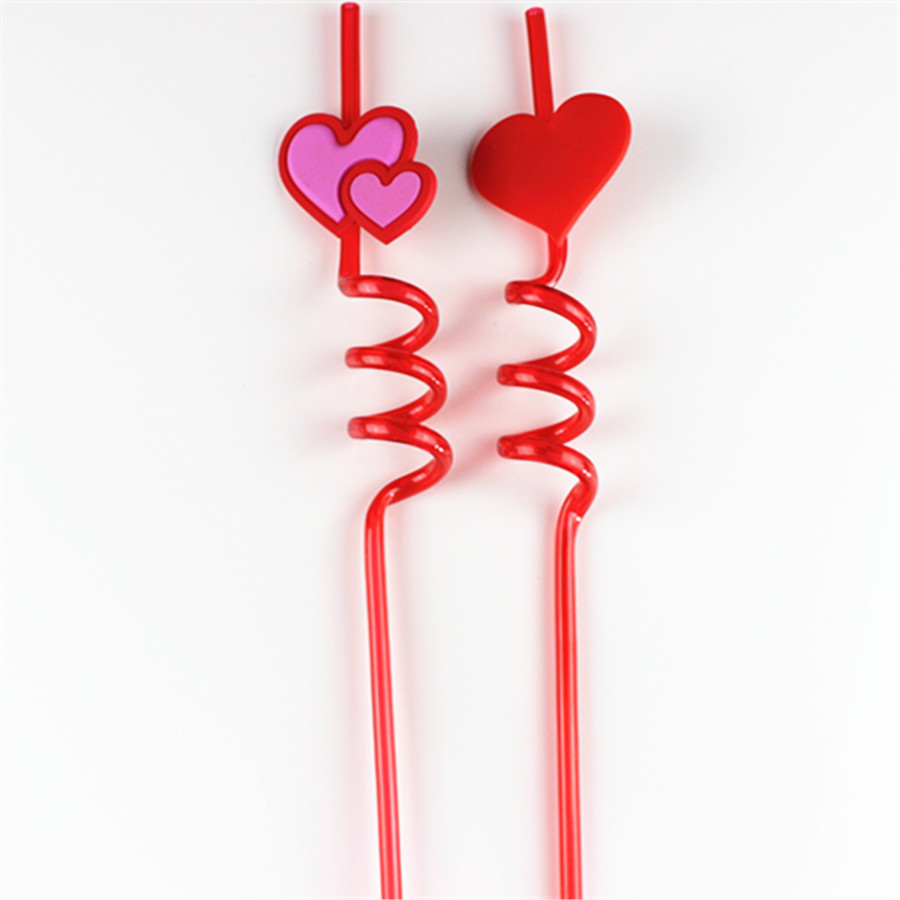Drinking Straw: (274, 1, 462, 900), (460, 1, 641, 900)
